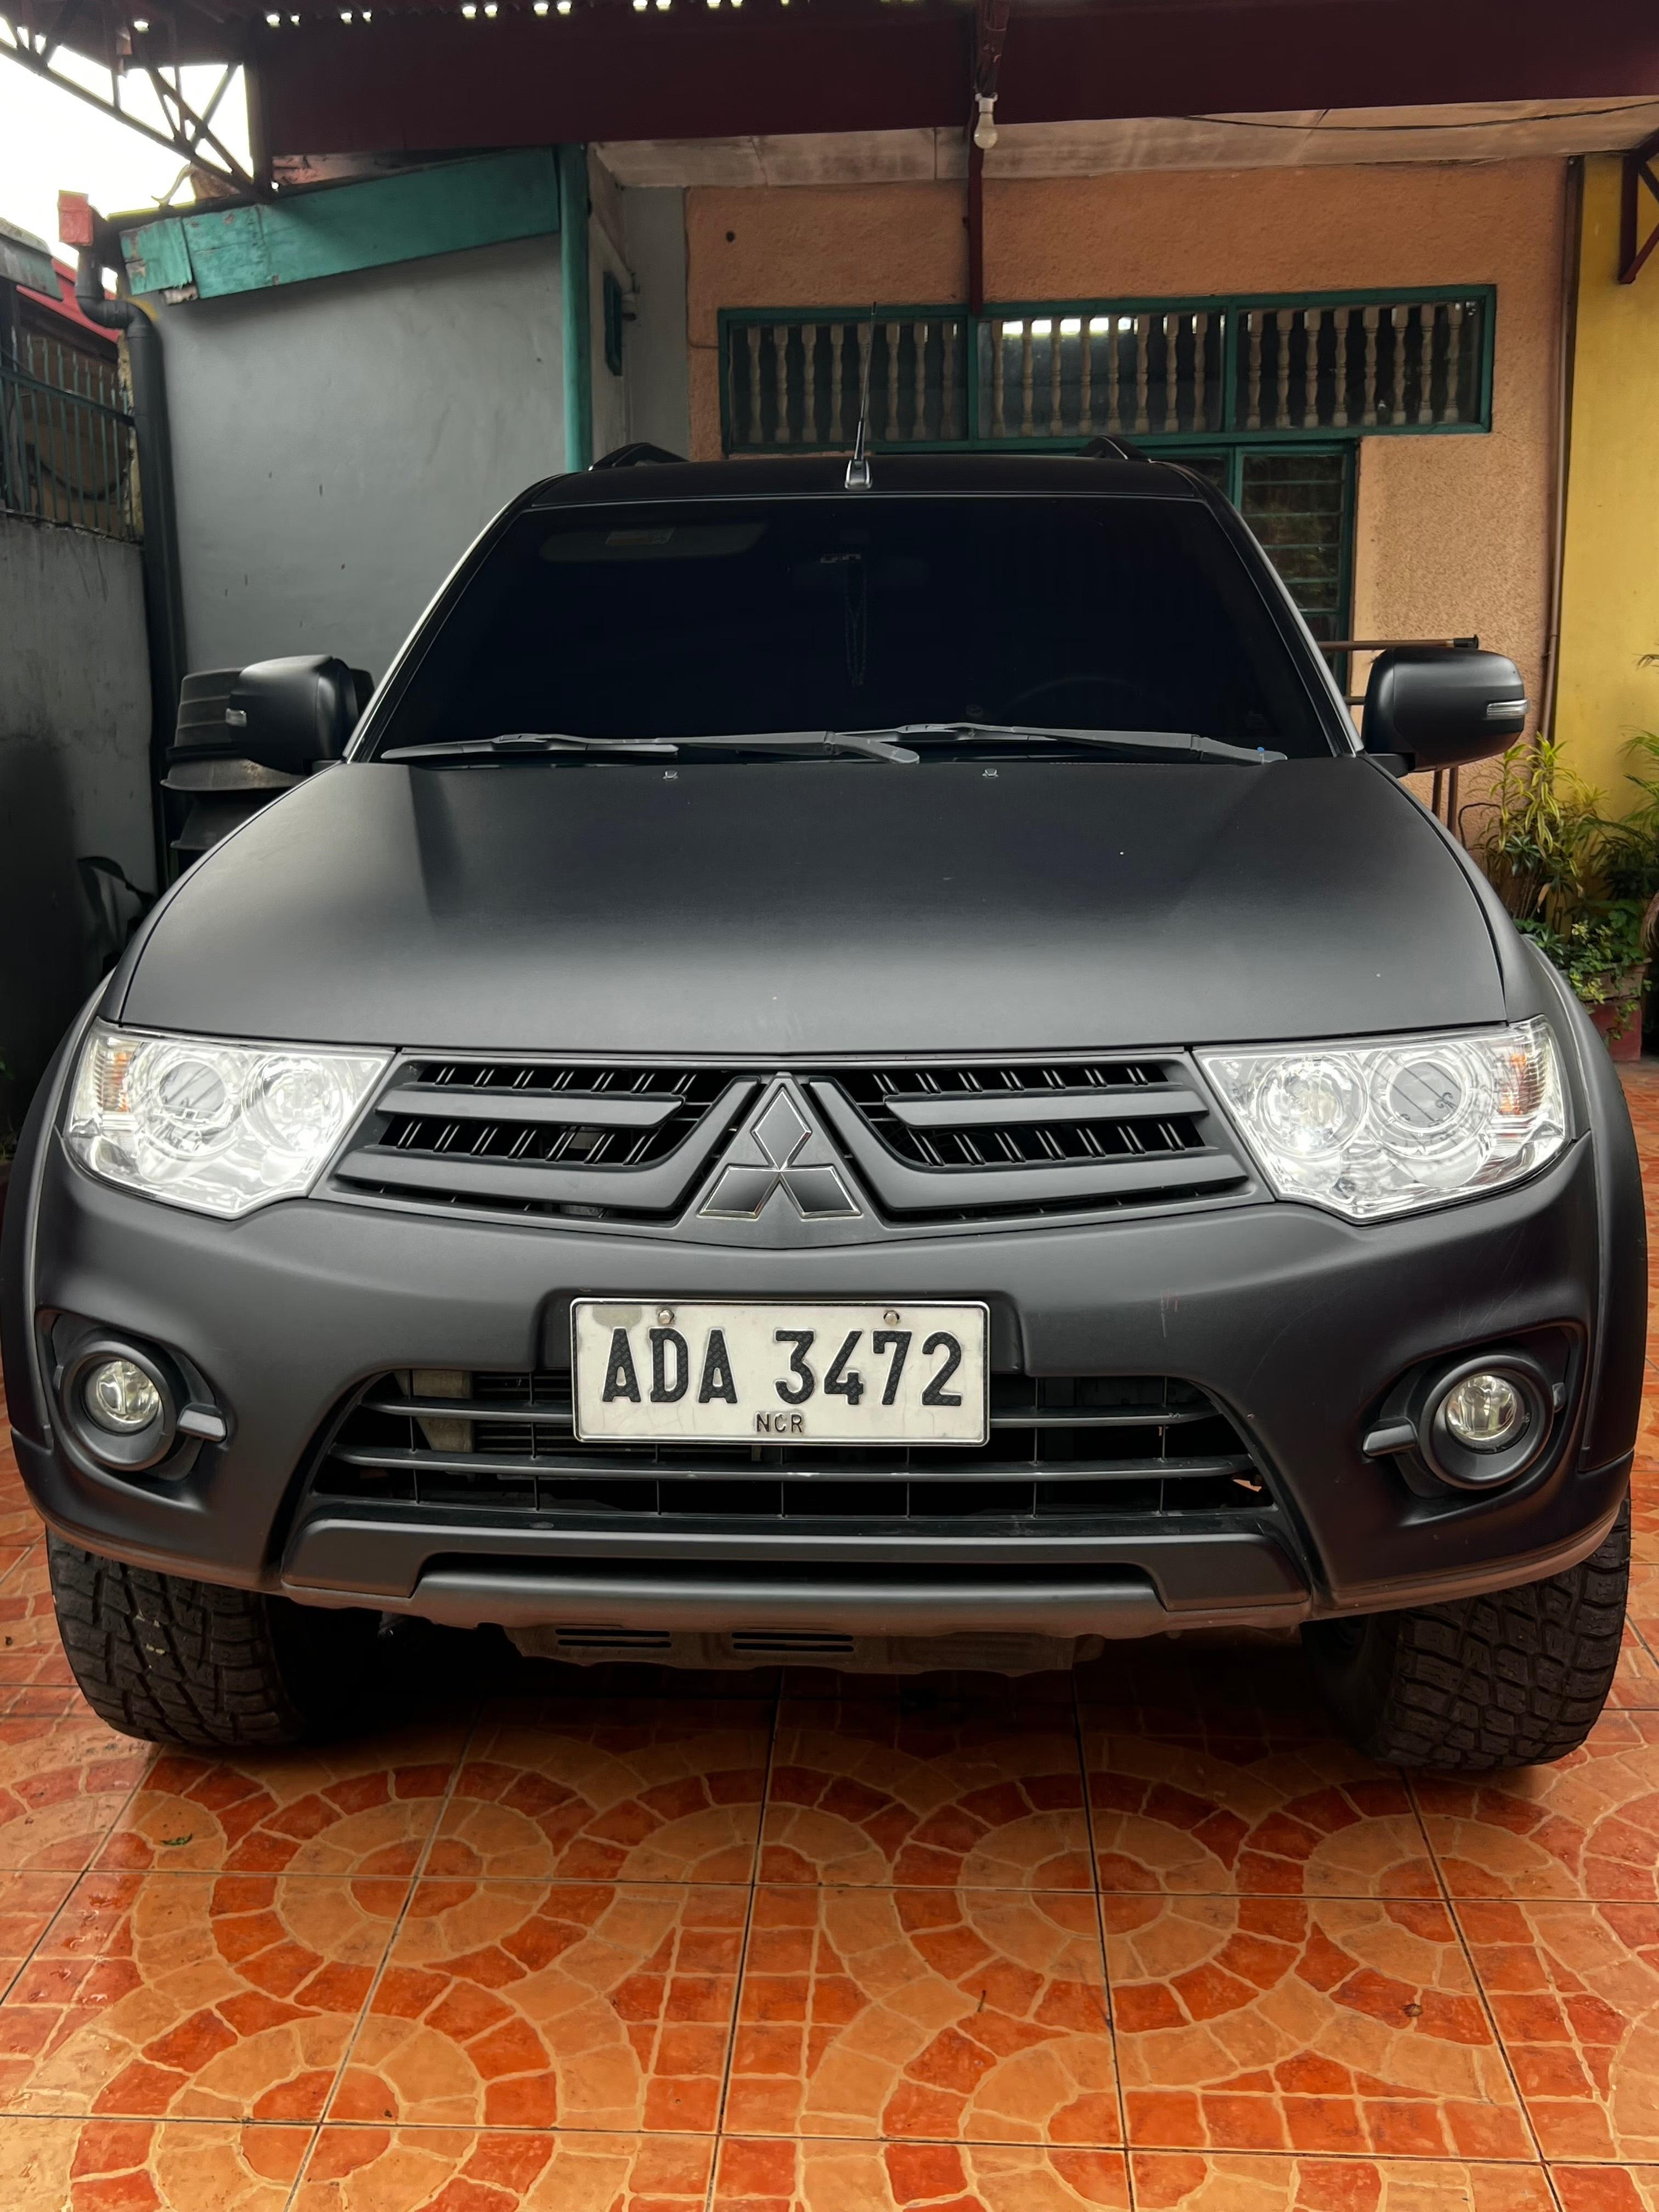plate: (579, 1308, 985, 1442)
